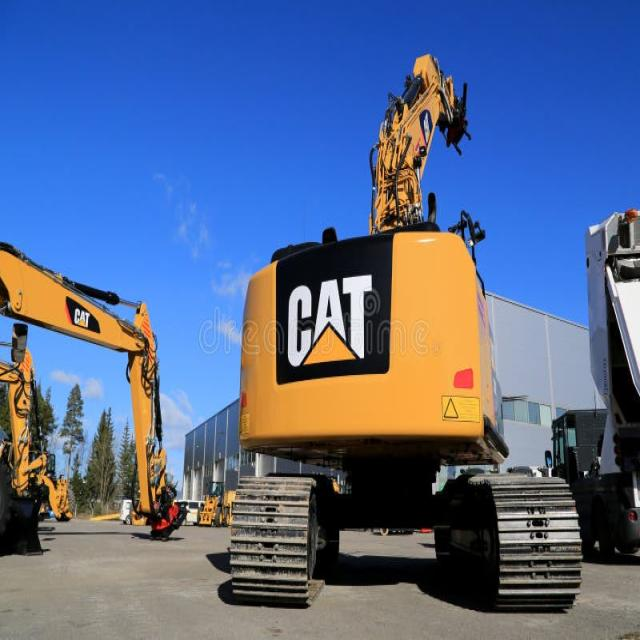excavator: (214, 56, 585, 616), (2, 242, 182, 558), (2, 323, 68, 535)
